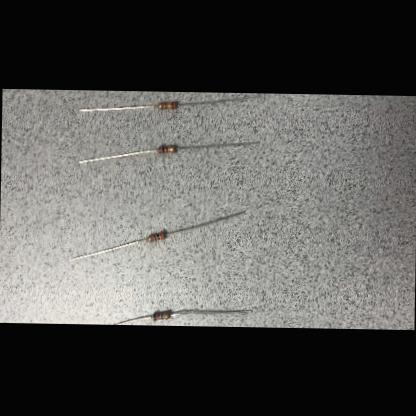resistor: (146, 230, 166, 240), (157, 100, 177, 108), (151, 310, 170, 318), (157, 144, 176, 152)
wire: (166, 209, 244, 235), (72, 236, 146, 260), (78, 146, 156, 162), (178, 92, 260, 106), (176, 139, 258, 149), (79, 102, 157, 111), (170, 308, 252, 316), (113, 314, 150, 324)
